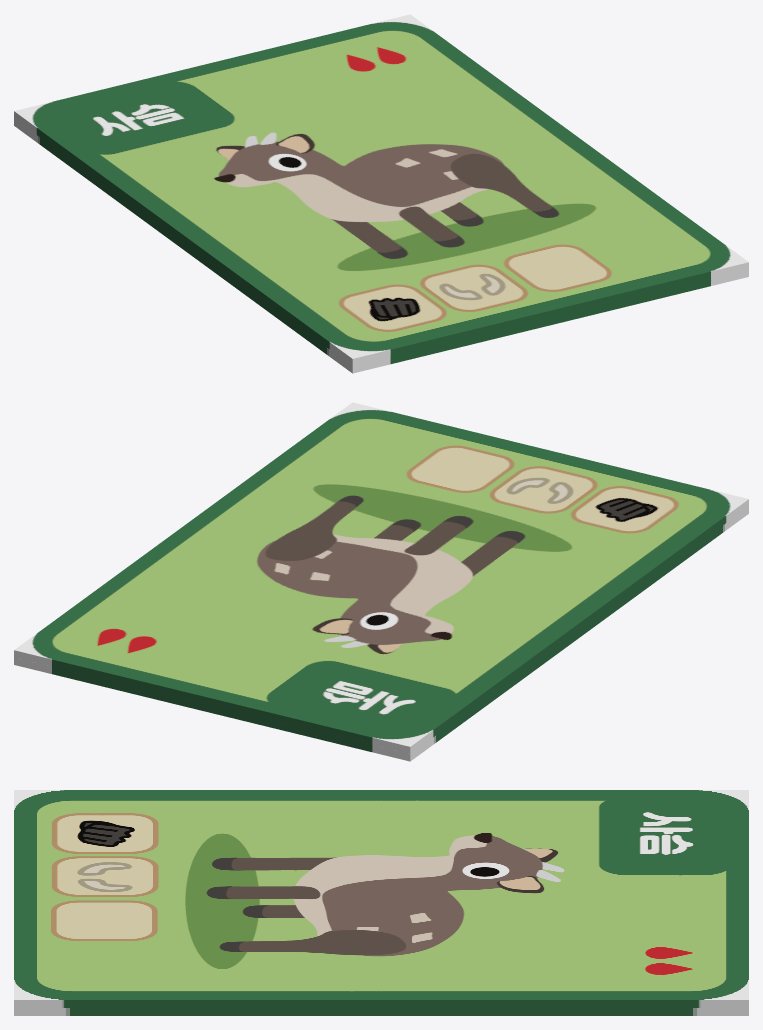
Rendered from DeerCard.fbx.
3 views of the same model, one above another, from view 1: azimuth 30°, elevation 25°; view 2: azimuth 150°, elevation 25°; view 3: azimuth 270°, elevation 25° (orthographic). The views are drawn at different scales.
Visible parts, largest first — view 1: Front, Back; view 2: Front, Back; view 3: Front, Back.
Boxes of the visible parts, x1=… form: Front: x1=14, y1=14, x2=748, y2=366; Back: x1=14, y1=118, x2=748, y2=373; Front: x1=14, y1=402, x2=748, y2=754; Back: x1=14, y1=506, x2=748, y2=761; Front: x1=14, y1=790, x2=748, y2=1007; Back: x1=14, y1=1008, x2=748, y2=1015.
Size of the model in its own units: 4.06 by 0.1436 by 6.
